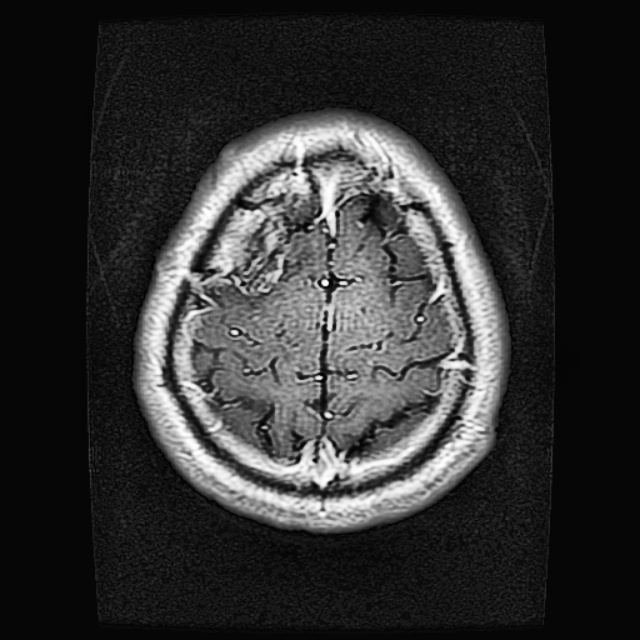Glioma: (233, 193, 319, 293)
